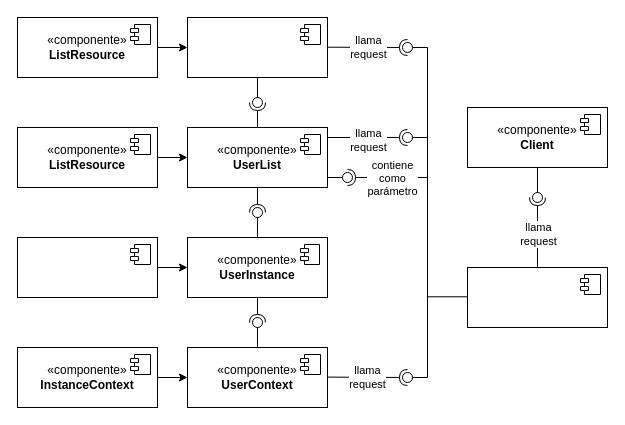
Some shapes in this 625 by 425 pixel diagram are drawn without their labels. Each missing label, with the centre of its shape:
«componente» InstanceResource: the point at 87,267
«componente» UserPage: the point at 257,47
«componente» V1: the point at 537,297
